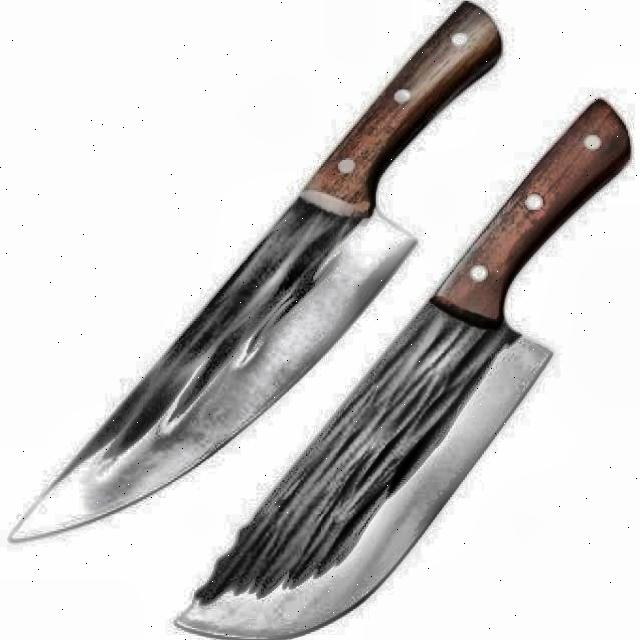knife: (3, 0, 505, 548), (168, 99, 636, 637)
